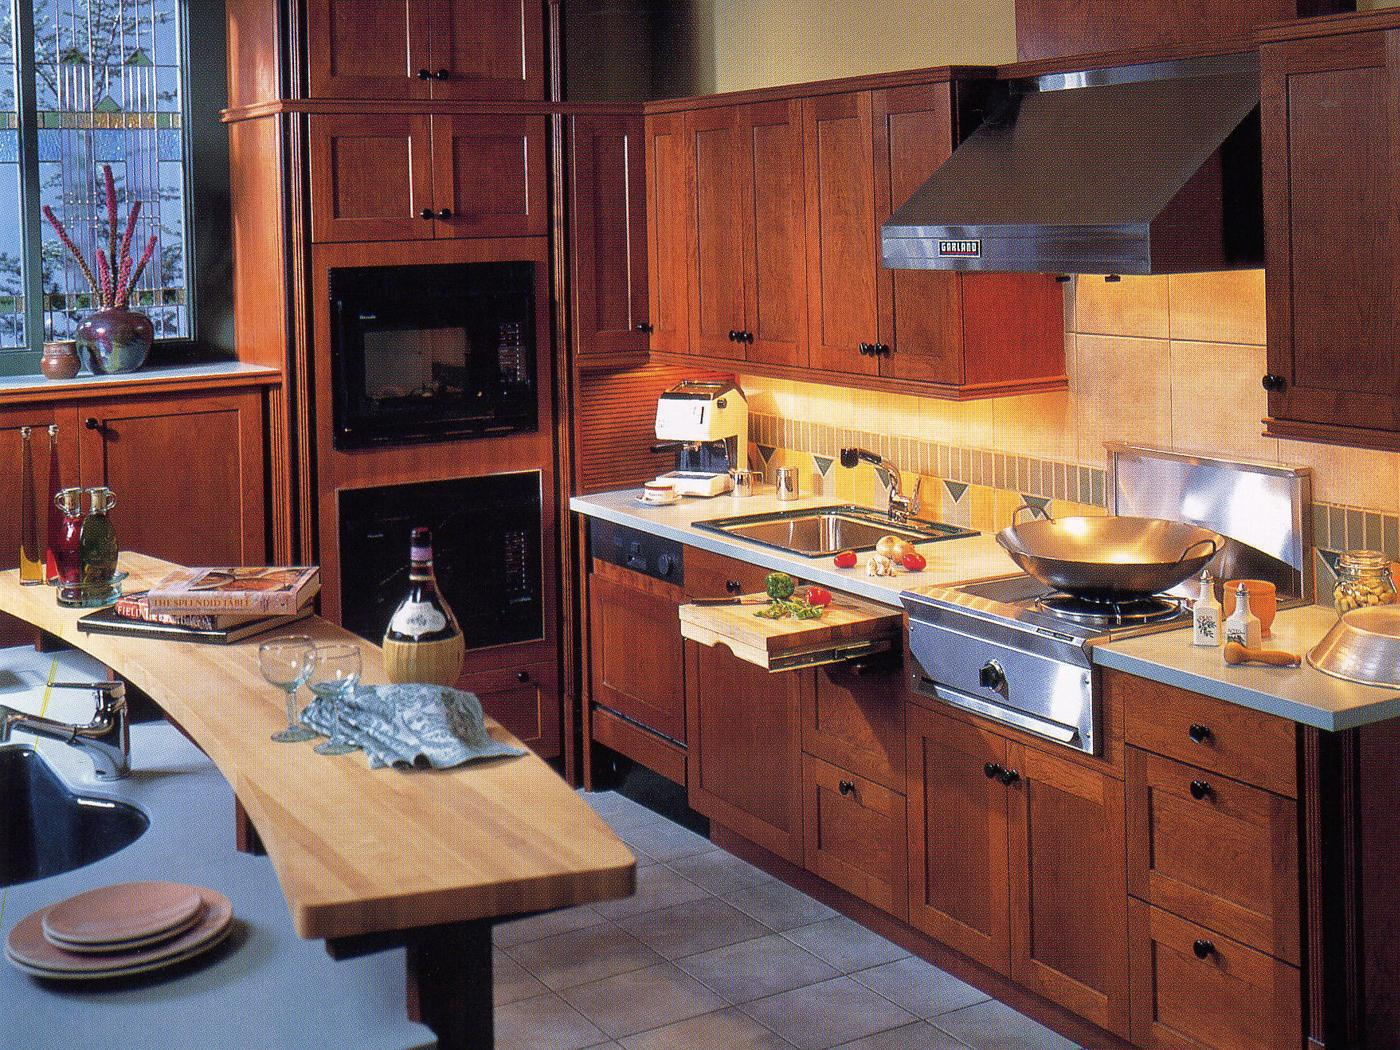Electrodomestico: (906, 583, 1114, 1020), (309, 260, 547, 456), (345, 460, 558, 663)
Lavaplatos: (696, 435, 995, 578), (0, 673, 162, 879)
